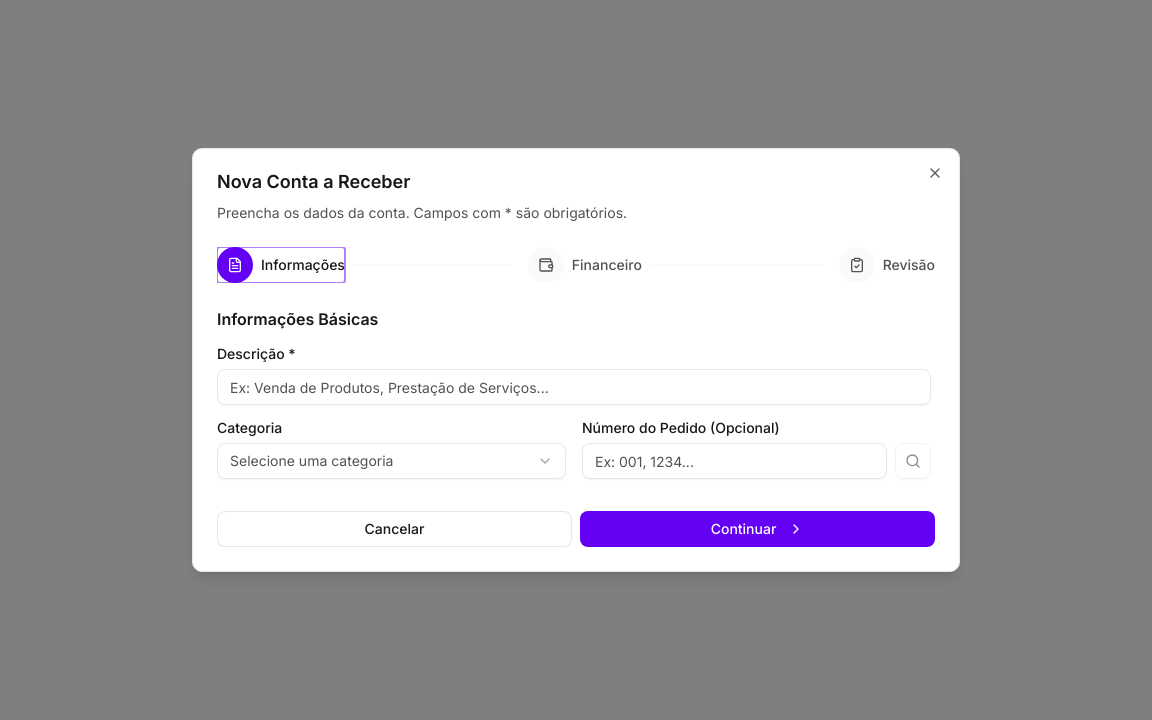
Test: AccountReceivableFormDialog - wizard de passos › voltar preserva dados da etapa anterior
This screenshot has width=1152, height=720.
Type "Serviço" into the field labelled "Descrição *" at (574, 387), box [217,369,931,405]
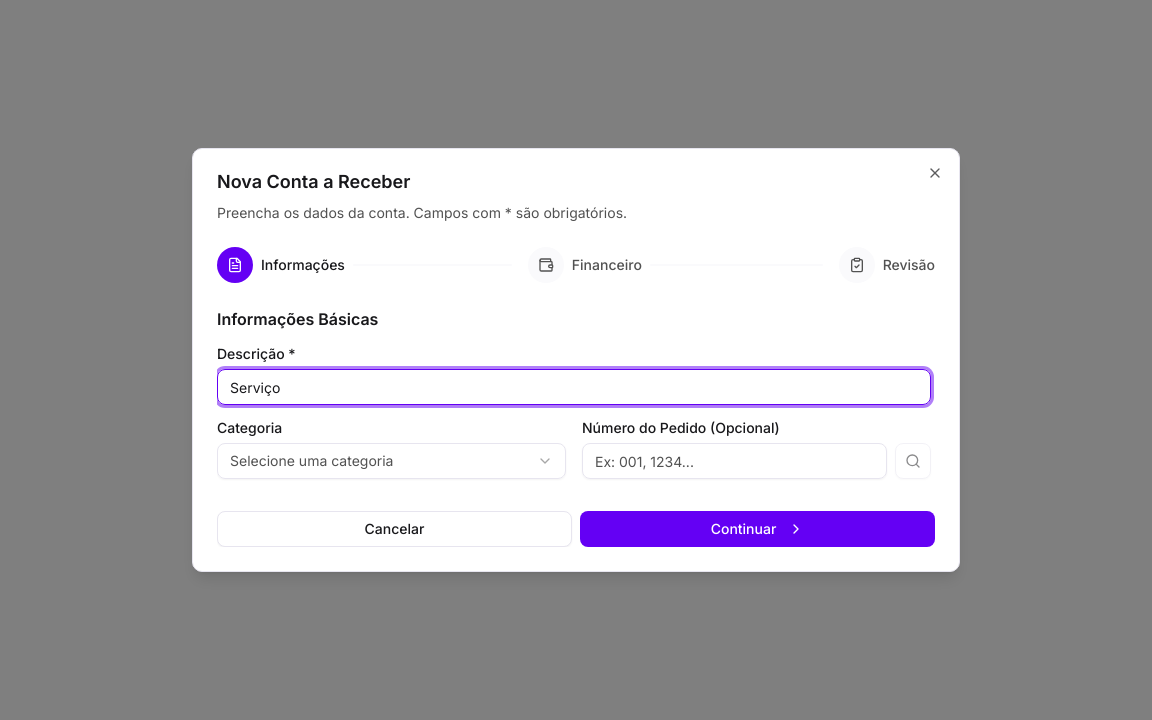
Click the button "Continuar" at (758, 529), box [580,511,935,547]
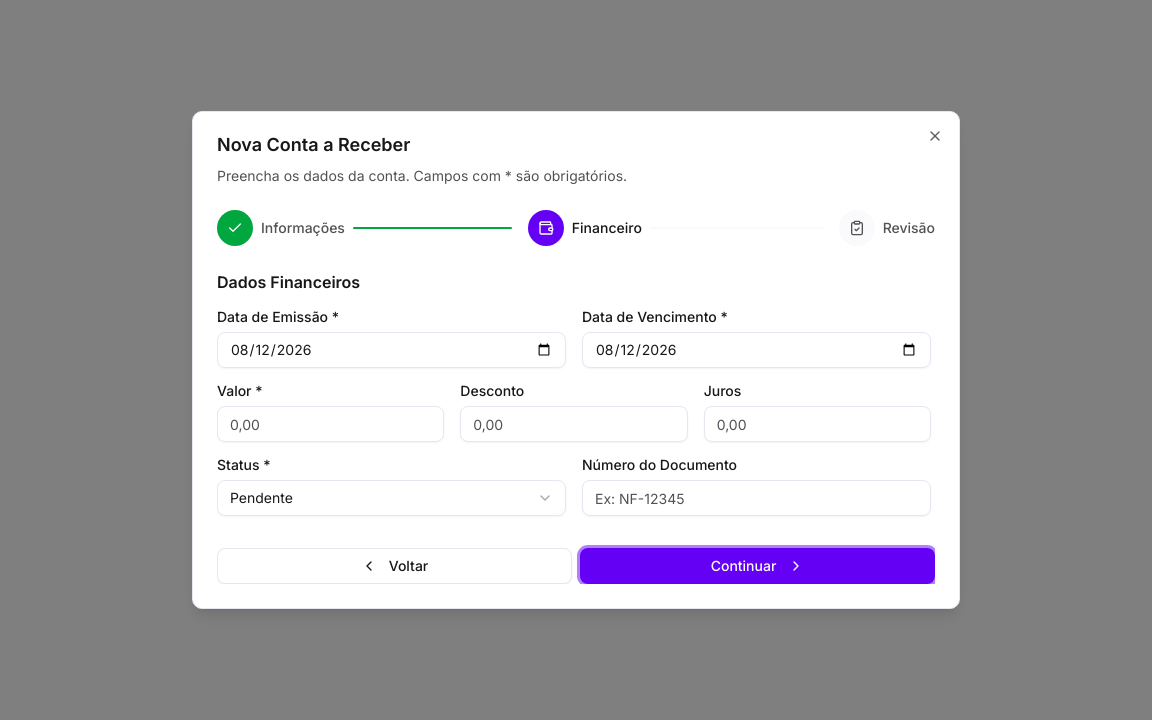
Expected: the date field labelled "Data de Emissão *" is shown, [217,332,566,368]
Click the button "Voltar" at (394, 566), box [217,548,572,584]
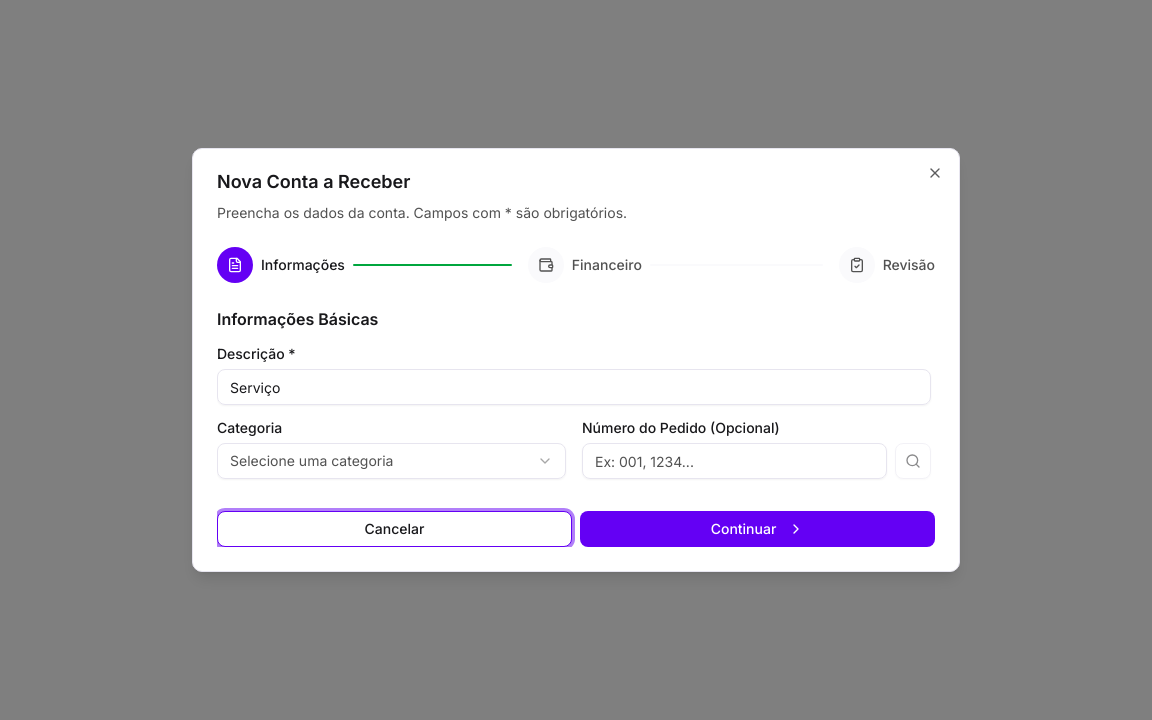
Expected: the field labelled "Descrição *" holds "Serviço", [217,369,931,405]
